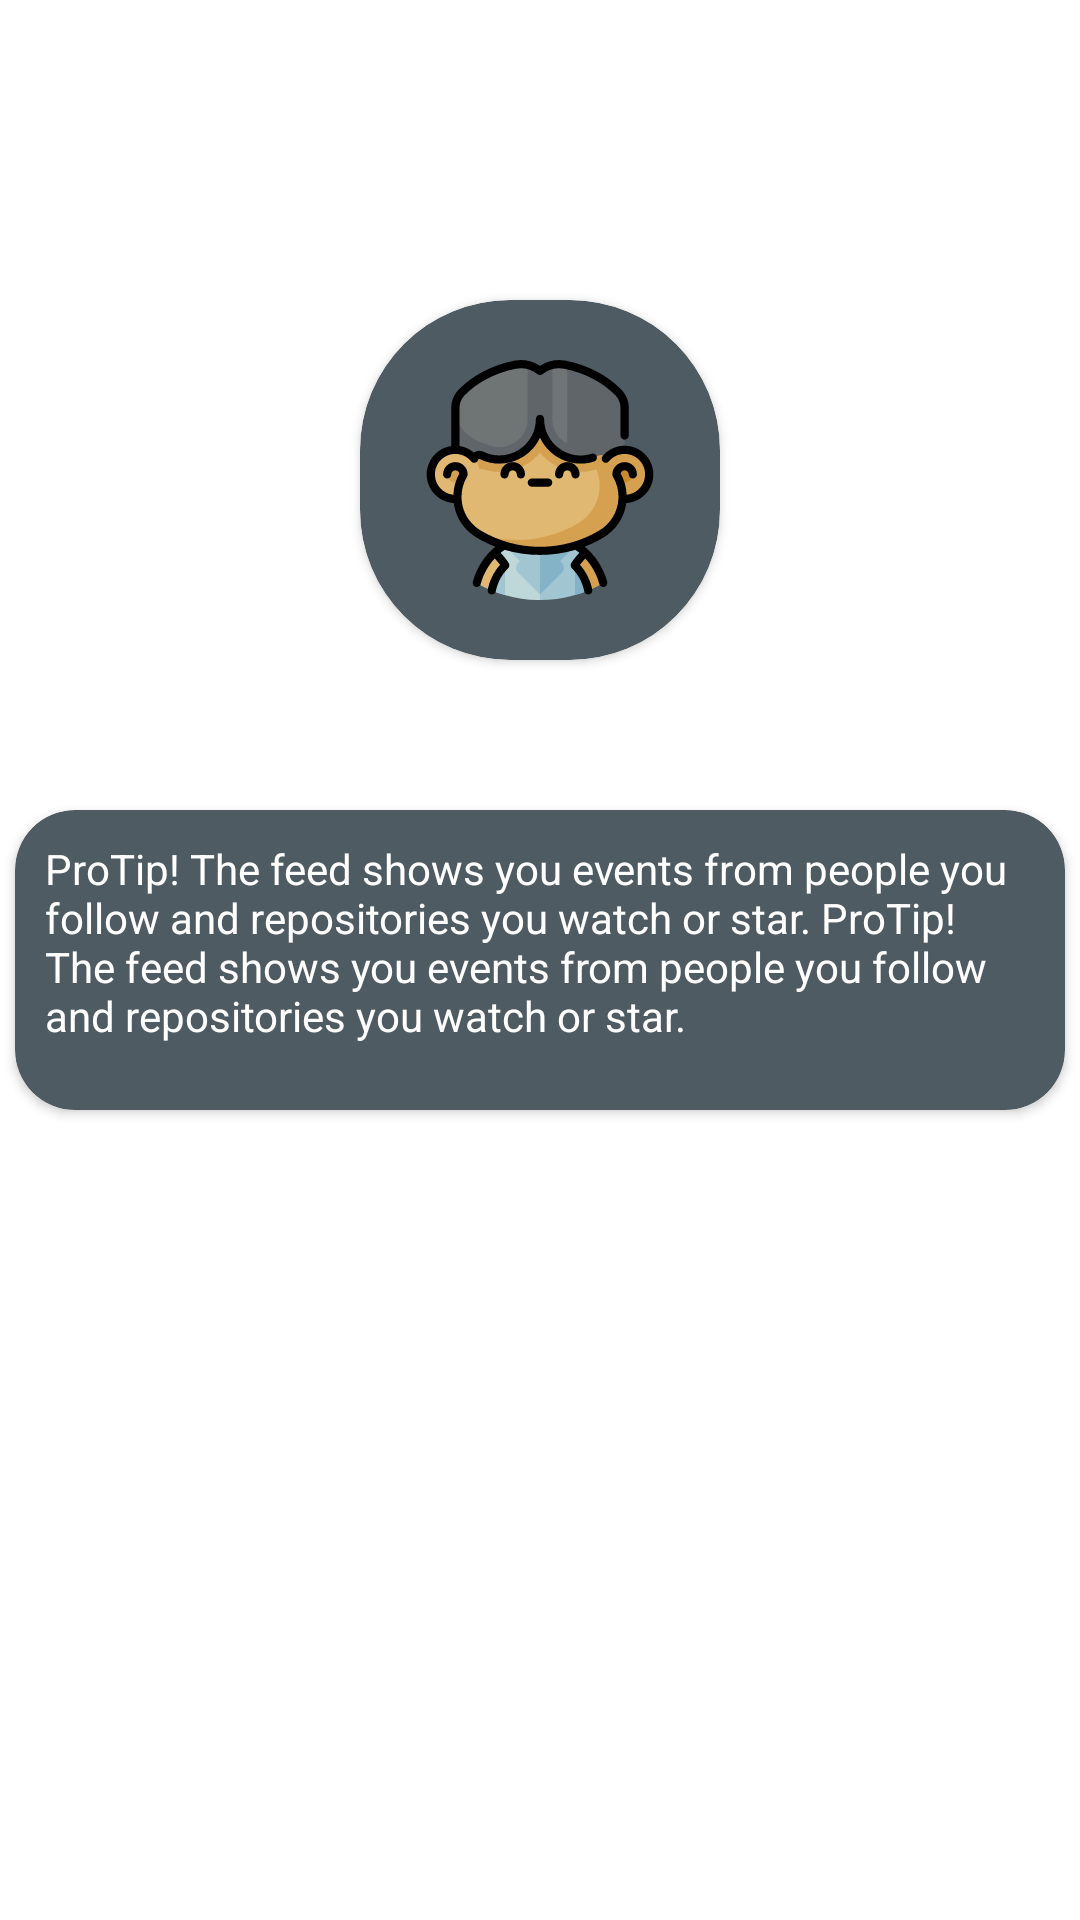

Named icons in this screenshot (1080*1920) and their bounding boxes, (x1, y1, x2, y2):
user: (426, 360, 654, 600)
